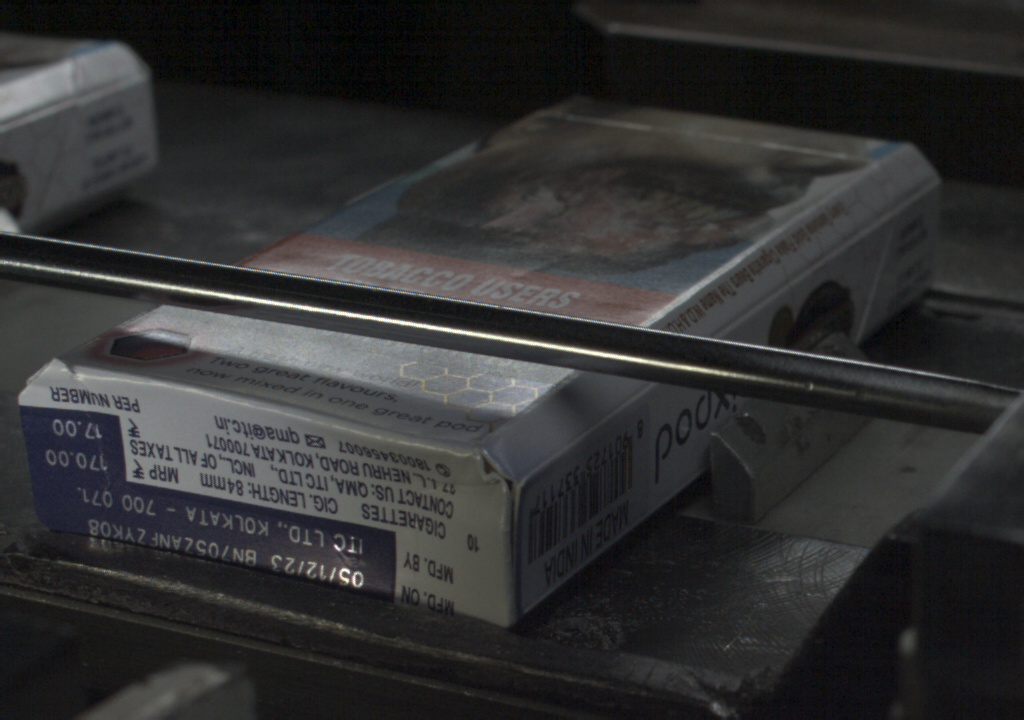g_lmiter: (724, 271, 803, 333), (807, 212, 885, 272), (577, 386, 646, 436), (521, 436, 577, 480)
g_miter: (891, 171, 940, 213)
ng_bottom: (383, 435, 515, 626), (16, 369, 129, 544)
ng_label: (33, 486, 398, 600)
price: (23, 412, 123, 486)
